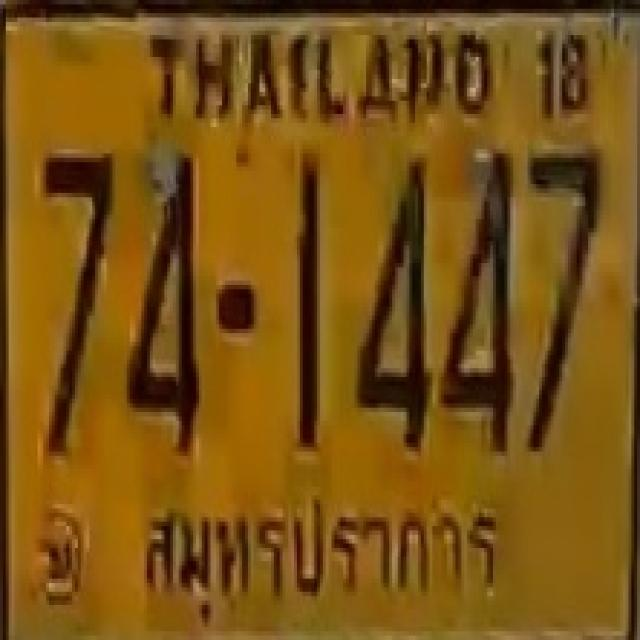1: (294, 154, 320, 447)
4: (438, 149, 513, 452), (124, 152, 199, 450), (353, 156, 428, 449)
7: (524, 149, 602, 452), (42, 154, 114, 452), (44, 153, 112, 351)
SPK: (123, 472, 510, 634)
